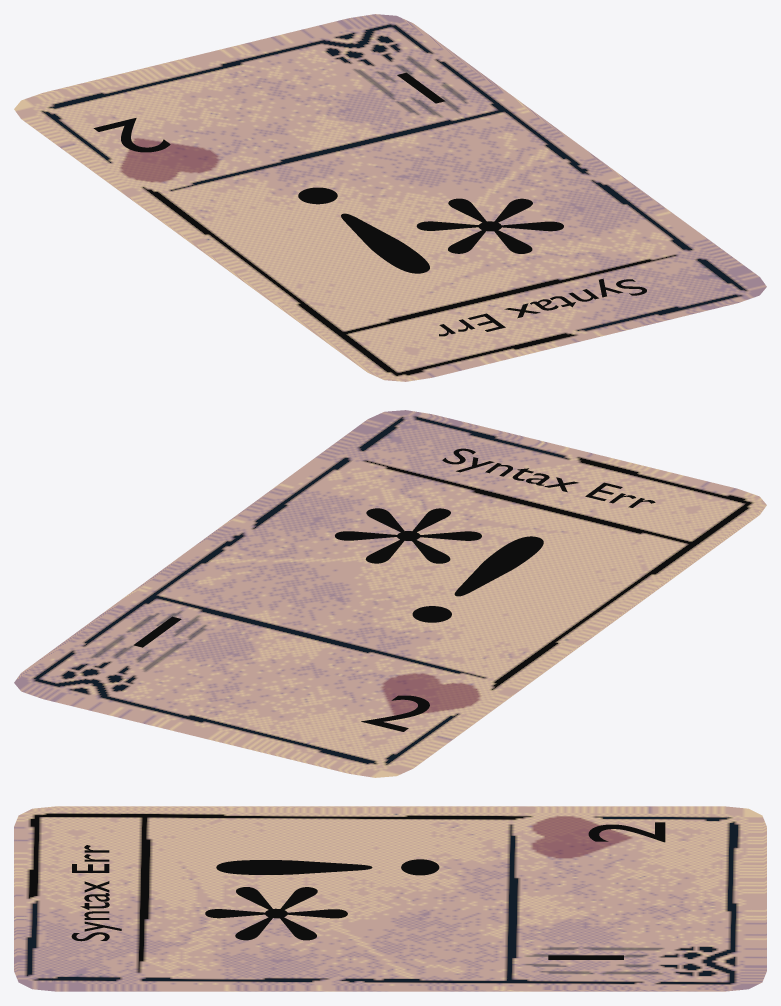
The model's file is Syntax Err.glb.
3 renders of one model, top to bottom at view 1: azimuth 30°, elevation 25°; view 2: azimuth 150°, elevation 25°; view 3: azimuth 270°, elevation 25°, orthographic. The views are drawn at different scales.
Visible parts, largest first — view 1: Syntax Err; view 2: Syntax Err; view 3: Syntax Err.
Boxes of the visible parts, left/top/right/bottom form: Syntax Err: left=14, top=14, right=766, bottom=381; Syntax Err: left=14, top=410, right=766, bottom=777; Syntax Err: left=14, top=806, right=766, bottom=991.
Size of what is drawn, in the model's own units: 44.93 by 0.5266 by 77.22.
3 materials, 1 textured.
